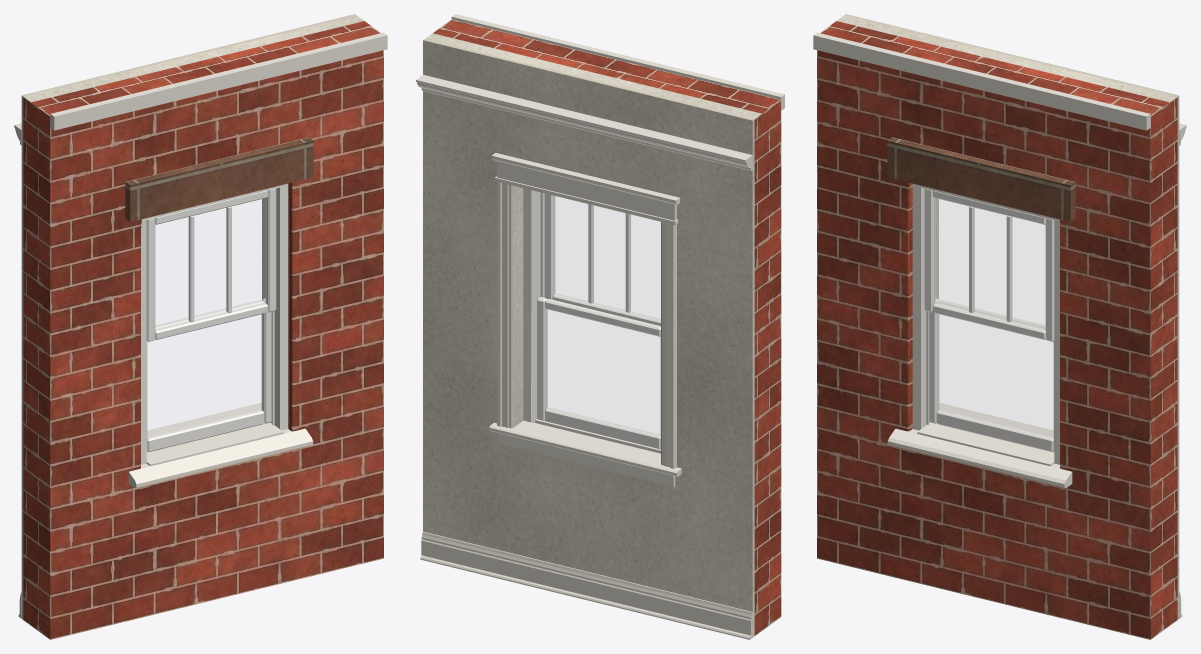
File: wall_brick_window.glb
The picture shows the model from 3 angles, left to right: view 1: azimuth 30°, elevation 25°; view 2: azimuth 150°, elevation 25°; view 3: azimuth 330°, elevation 25°; orthographic projection.
Parts seen in each view (by area): view 1: wall_brick_window_brick, wall_brick_window_trim, folha_glass, wall_brick_window_glass, wall_brick_window_stone, wall_brick_window_sash, wall_brick_window_frame, wall_brick_window_plaster, folha_sash, molduras; view 2: wall_brick_window_plaster, molduras, wall_brick_window_brick, folha_glass, wall_brick_window_glass, wall_brick_window_frame, folha_sash, wall_brick_window_sash, wall_brick_window_trim; view 3: wall_brick_window_brick, wall_brick_window_trim, folha_glass, wall_brick_window_glass, wall_brick_window_stone, wall_brick_window_sash, wall_brick_window_frame, wall_brick_window_plaster, folha_sash, molduras.
Boxes of the visible parts, box(x1,y1,x2,y2) form: wall_brick_window_brick: box(23, 21, 383, 639); wall_brick_window_trim: box(50, 32, 387, 487); folha_glass: box(148, 314, 262, 437); wall_brick_window_glass: box(156, 198, 266, 329); wall_brick_window_stone: box(125, 137, 313, 221); wall_brick_window_sash: box(146, 188, 276, 341); wall_brick_window_frame: box(141, 183, 288, 464); wall_brick_window_plaster: box(21, 14, 363, 619); folha_sash: box(146, 298, 271, 452); molduras: box(14, 123, 263, 618); wall_brick_window_plaster: box(423, 33, 761, 637); molduras: box(416, 74, 752, 639); wall_brick_window_brick: box(433, 19, 781, 635); folha_glass: box(546, 310, 659, 434); wall_brick_window_glass: box(554, 196, 660, 319); wall_brick_window_frame: box(523, 188, 660, 453); folha_sash: box(537, 297, 660, 449); wall_brick_window_sash: box(544, 193, 660, 325); wall_brick_window_trim: box(451, 14, 784, 453); wall_brick_window_brick: box(817, 21, 1177, 639); wall_brick_window_trim: box(813, 32, 1150, 487); folha_glass: box(938, 314, 1052, 437); wall_brick_window_glass: box(934, 198, 1044, 329); wall_brick_window_stone: box(887, 137, 1075, 221); wall_brick_window_sash: box(924, 188, 1054, 341); wall_brick_window_frame: box(912, 183, 1059, 464); wall_brick_window_plaster: box(837, 14, 1179, 619); folha_sash: box(929, 298, 1054, 452); molduras: box(937, 123, 1186, 618).
Bounding box in the file's own units: 2 × 3.02 × 0.455.
7 materials, 3 textured.
